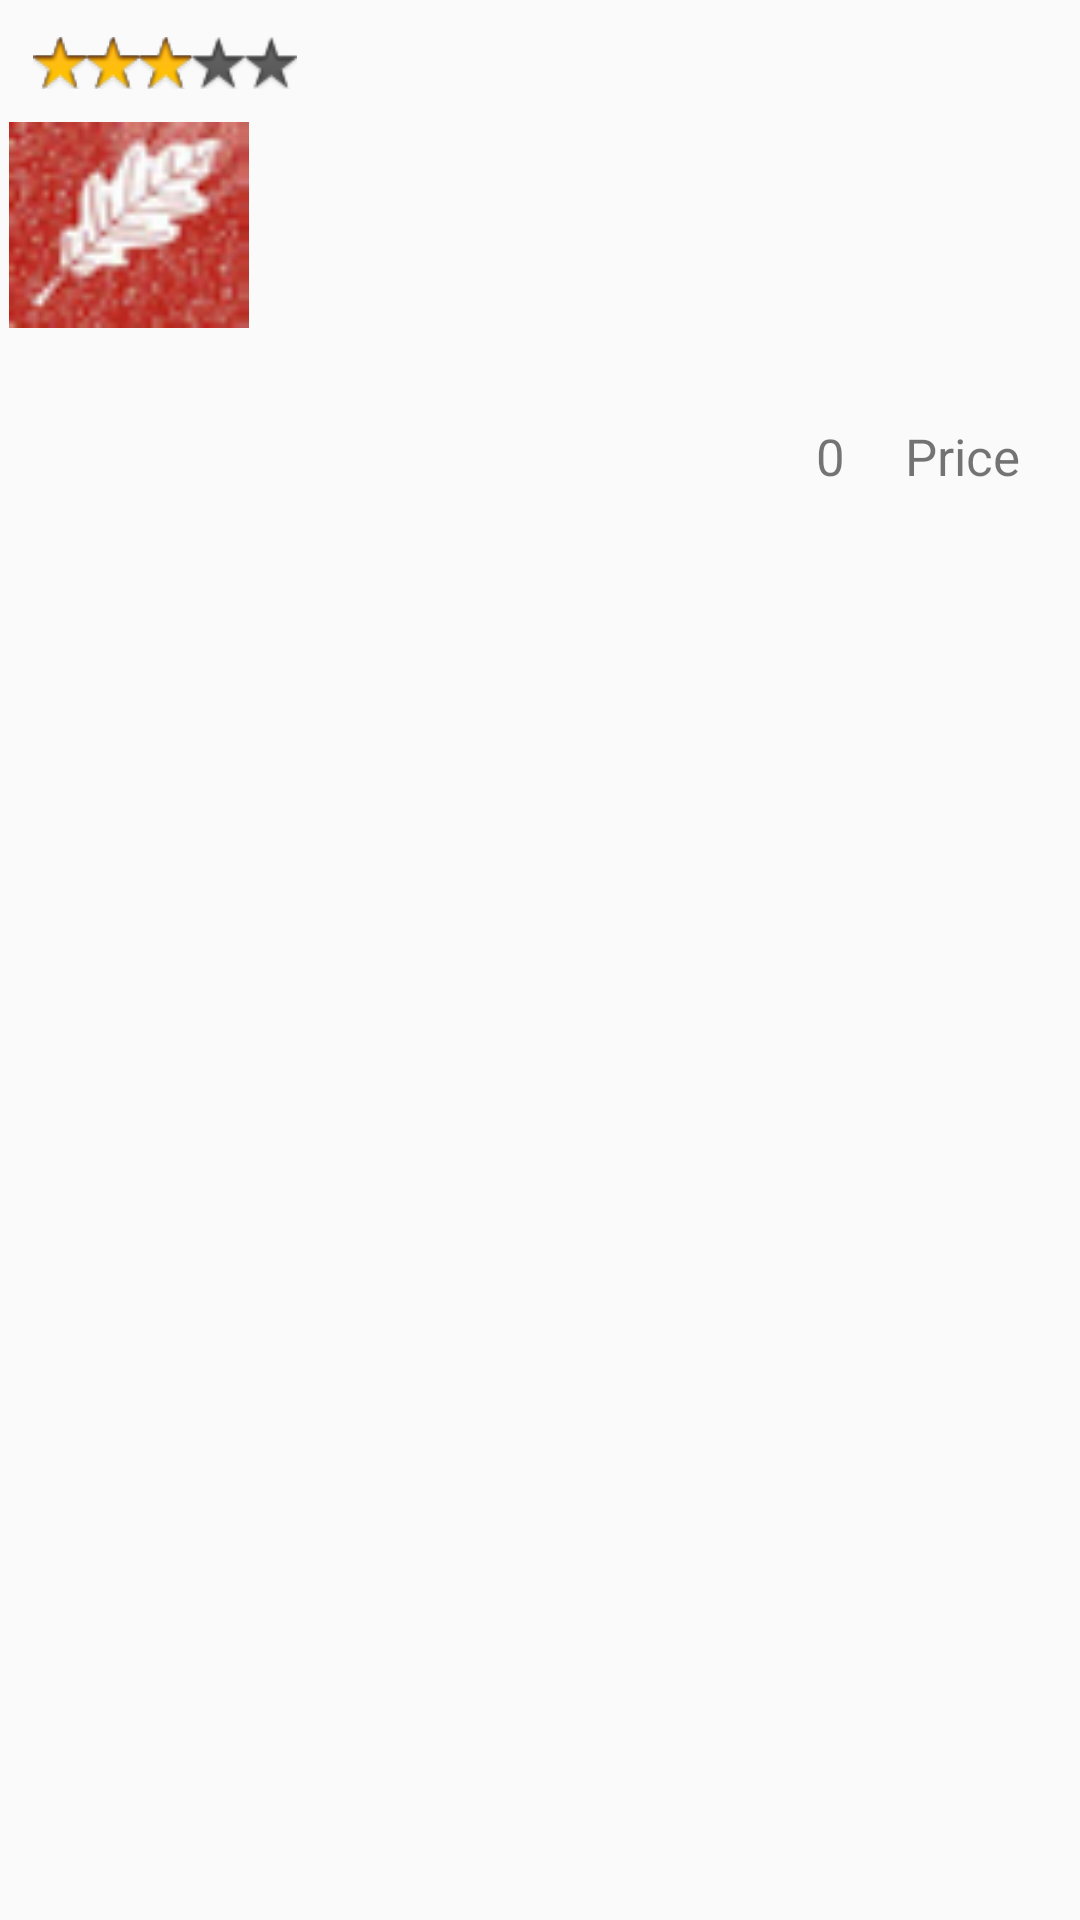

Named icons in this screenshot (1080×1920) and their bounding boxes, rect(x1, y1, x2, y2):
automn: rect(9, 122, 249, 328)
